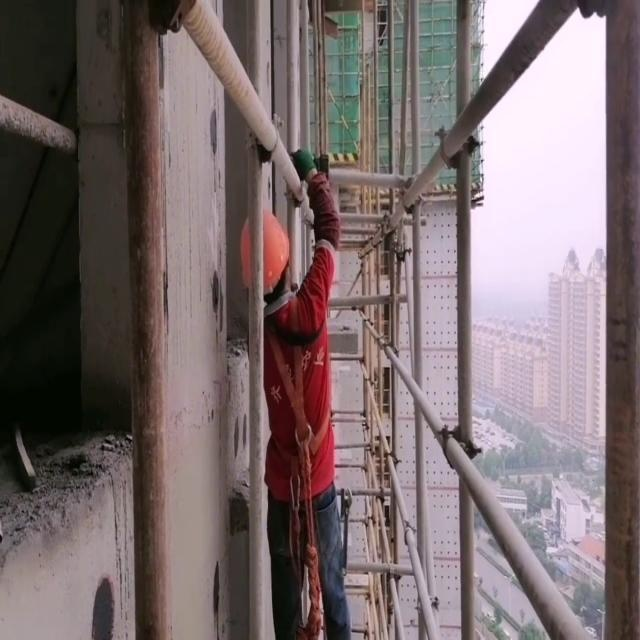Arnes_seguridad: (257, 279, 337, 507)
